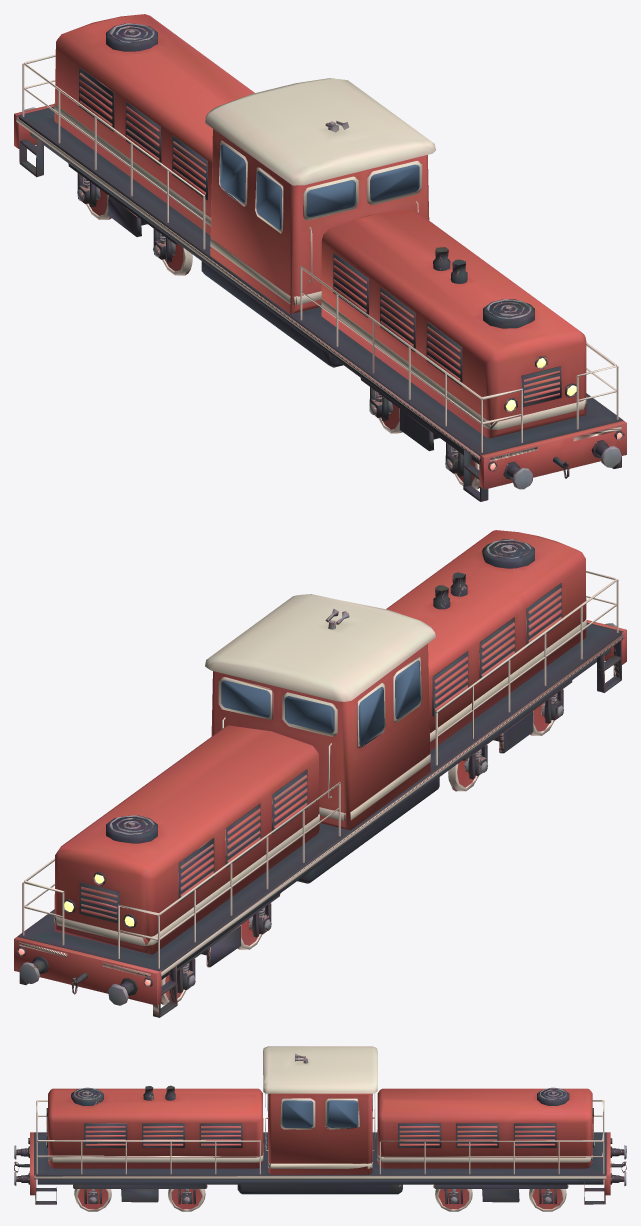
File: diesel-locomotive.glb
3 renders of one model, top to bottom at view 1: azimuth 30°, elevation 25°; view 2: azimuth 150°, elevation 25°; view 3: azimuth 270°, elevation 25°, orthographic. The views are drawn at different scales.
Parts seen in each view (by area): view 1: diesel-locomotive_body, diesel-locomotive_window_glass; view 2: diesel-locomotive_body, diesel-locomotive_window_glass; view 3: diesel-locomotive_body, diesel-locomotive_window_glass.
Part boxes in pixels (x1,y1,x2,y2): diesel-locomotive_body: [14, 14, 626, 501]; diesel-locomotive_window_glass: [220, 144, 419, 229]; diesel-locomotive_body: [14, 530, 626, 1017]; diesel-locomotive_window_glass: [221, 660, 420, 745]; diesel-locomotive_body: [14, 1046, 626, 1211]; diesel-locomotive_window_glass: [267, 1094, 372, 1127].
Bounding box in the file's own units: 2.88 × 4.43 × 16.98.
Materials: 4 (1 with a texture image).
